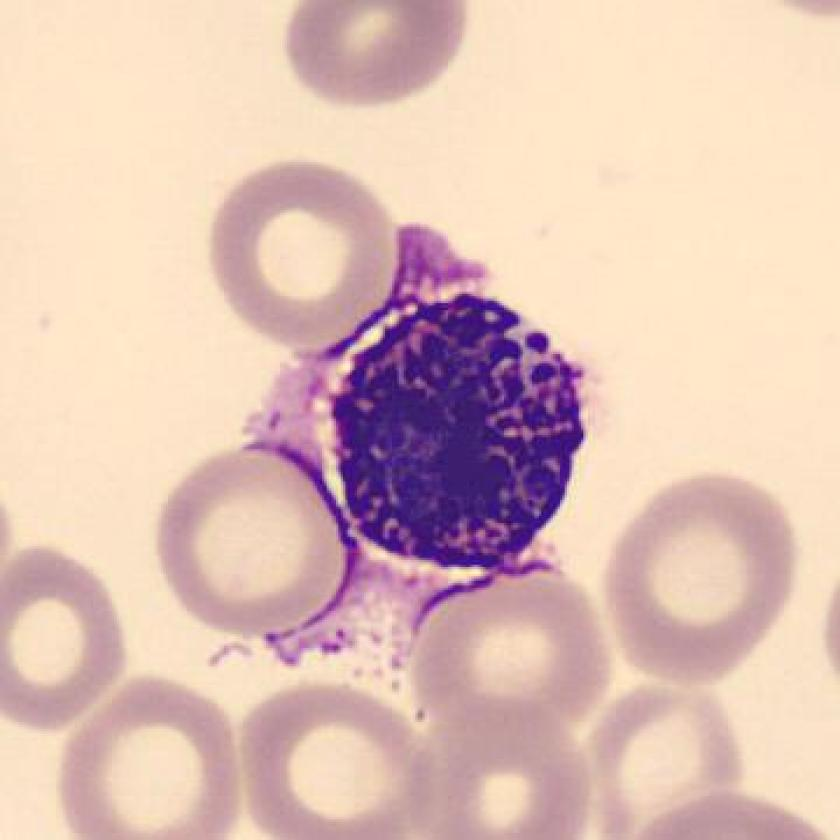basophil: (316, 274, 591, 577)
